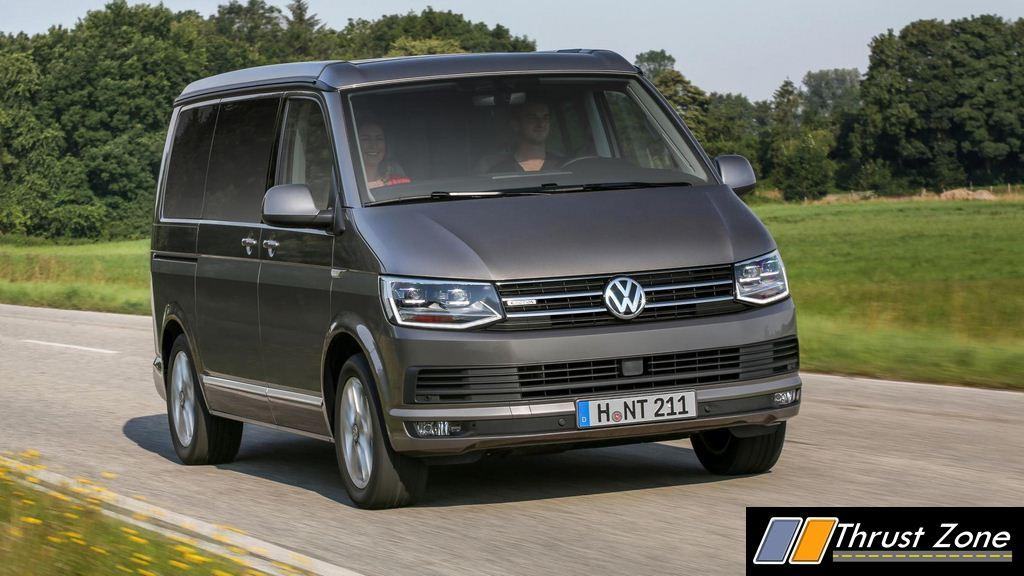van: (148, 49, 802, 510)
